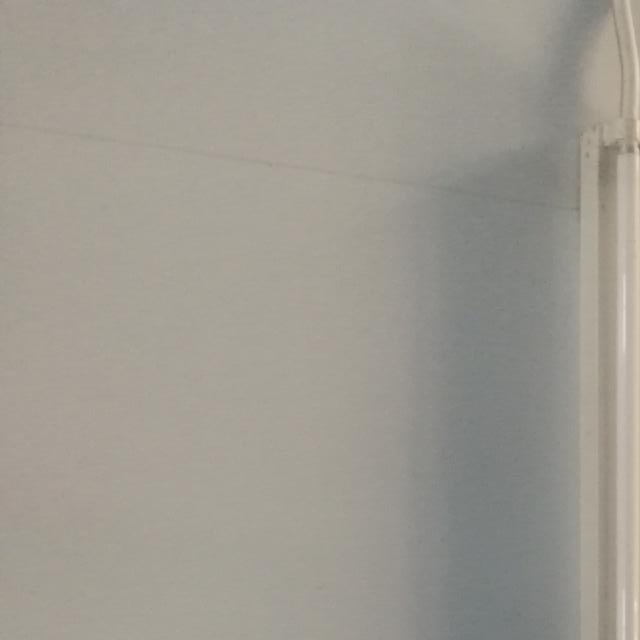fluorescent tube: (537, 98, 640, 640)
